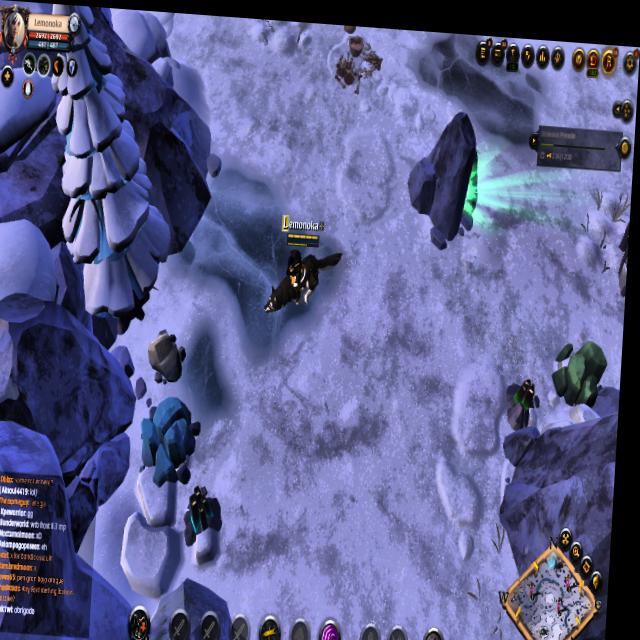ore tier 3: (504, 363, 547, 425)
ore tier 4: (189, 479, 230, 545)
rock tier 1: (148, 322, 194, 389)
rock tier 3: (553, 321, 613, 408)
rock tier 4: (141, 392, 207, 489)
